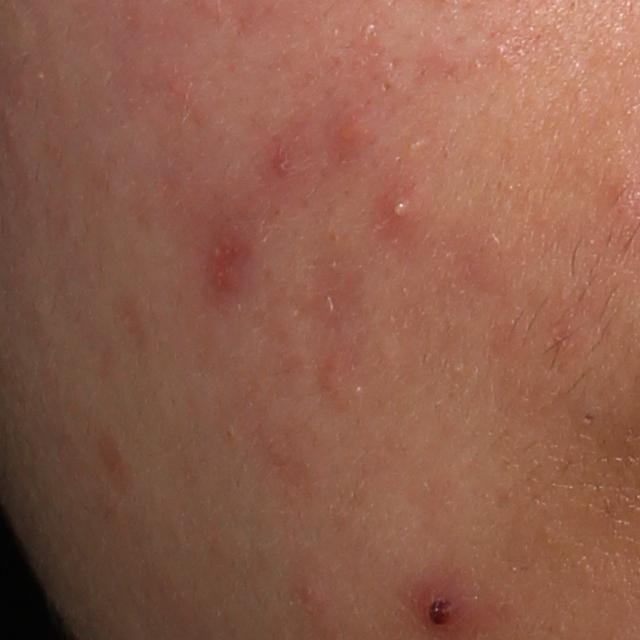papule: (408, 571, 476, 634), (204, 228, 245, 295), (332, 108, 374, 154)
pustule: (383, 194, 414, 229)
